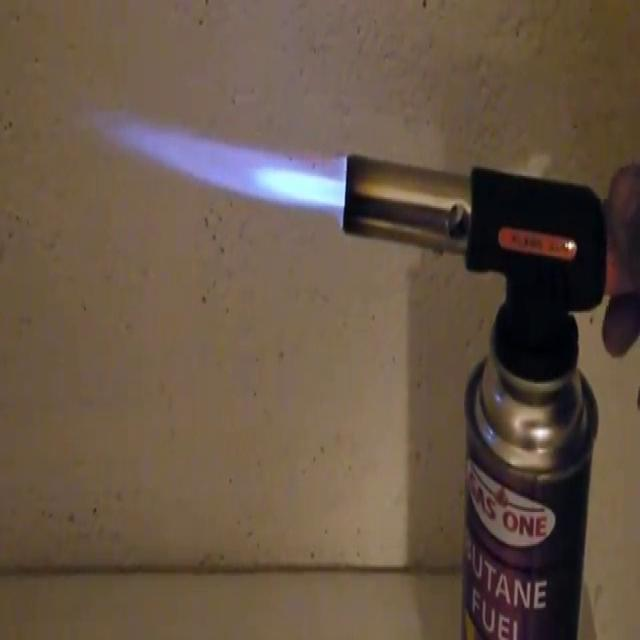fire: (92, 63, 351, 250)
